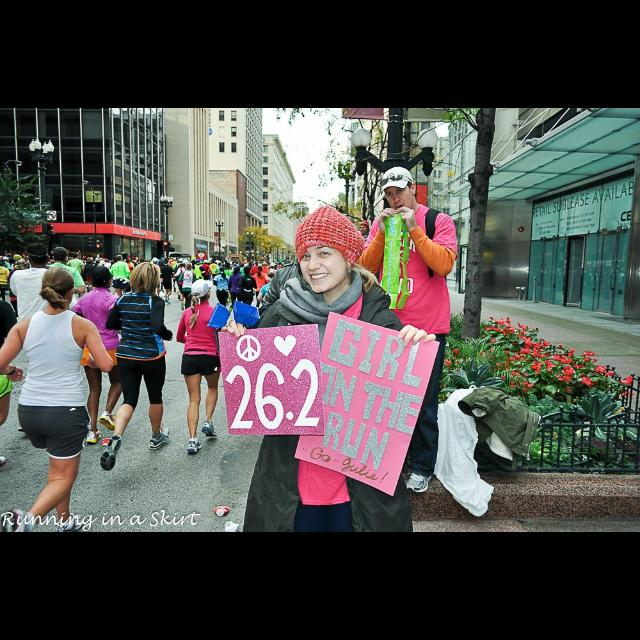head: (297, 217, 358, 296), (383, 168, 417, 216), (42, 268, 76, 308), (133, 262, 159, 294), (27, 244, 51, 270), (92, 266, 112, 290), (191, 281, 211, 301), (52, 248, 68, 266), (0, 274, 10, 297), (359, 222, 371, 235), (18, 261, 30, 271), (233, 264, 241, 274), (185, 264, 192, 272), (116, 255, 122, 263), (153, 258, 159, 266), (245, 267, 251, 275), (0, 262, 6, 268), (74, 253, 80, 259), (164, 260, 170, 266), (219, 268, 225, 274), (257, 267, 263, 273), (271, 264, 277, 270), (183, 260, 189, 266), (179, 260, 183, 266), (196, 260, 200, 266), (203, 261, 207, 265), (212, 262, 215, 264)
person: (354, 161, 466, 501), (96, 260, 176, 474), (70, 262, 126, 450), (176, 277, 230, 458), (5, 241, 62, 397), (40, 246, 90, 380), (0, 264, 28, 474), (355, 218, 377, 302), (6, 258, 30, 320), (108, 254, 134, 304), (237, 266, 259, 324), (177, 262, 199, 312), (64, 252, 86, 300), (227, 263, 246, 317), (174, 257, 192, 313), (212, 266, 230, 318), (252, 266, 270, 314), (160, 258, 177, 306), (173, 258, 190, 302), (148, 258, 162, 300), (191, 259, 205, 301), (0, 260, 10, 310), (267, 262, 279, 296), (200, 258, 212, 286), (207, 258, 219, 286)
